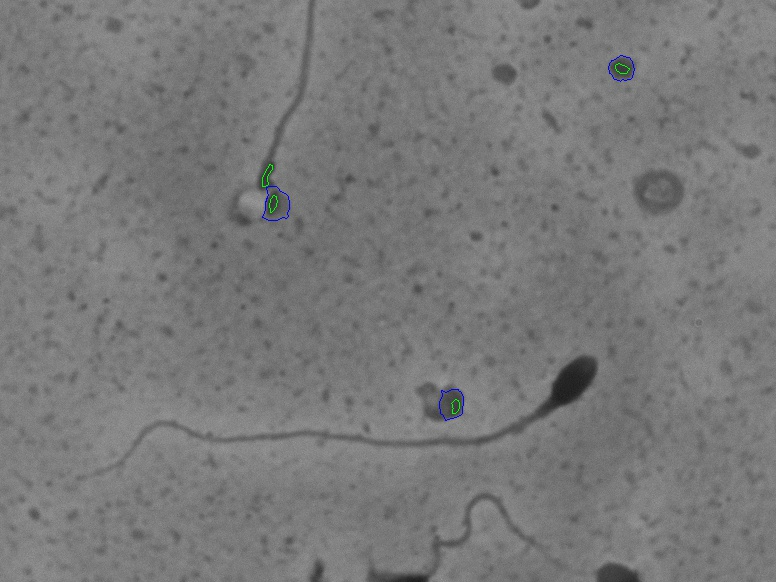Normal: (48, 344, 608, 494)
